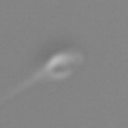normal: (1, 68, 45, 102)
